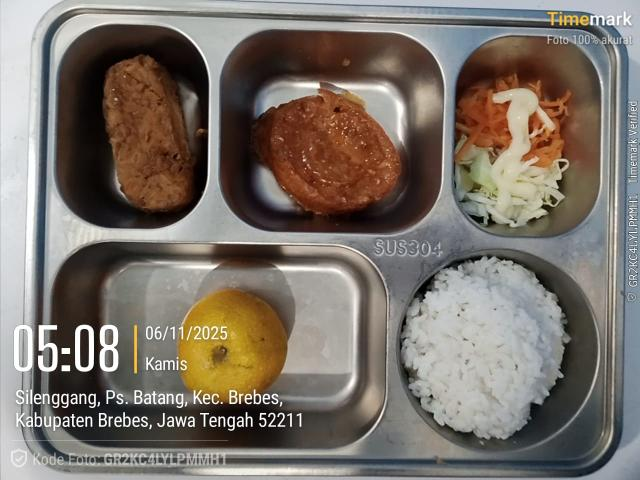ayam: (252, 88, 401, 214)
buah: (178, 289, 287, 402)
nasi: (401, 257, 569, 438)
sayur: (454, 82, 568, 227)
tempe: (103, 55, 196, 212)
